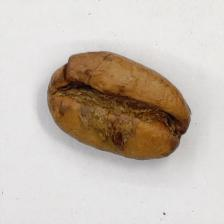NG: (55, 70, 178, 155)
